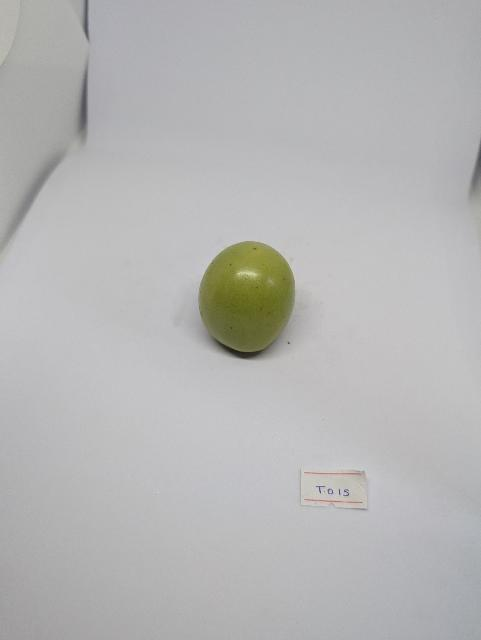green: (196, 239, 301, 356)
